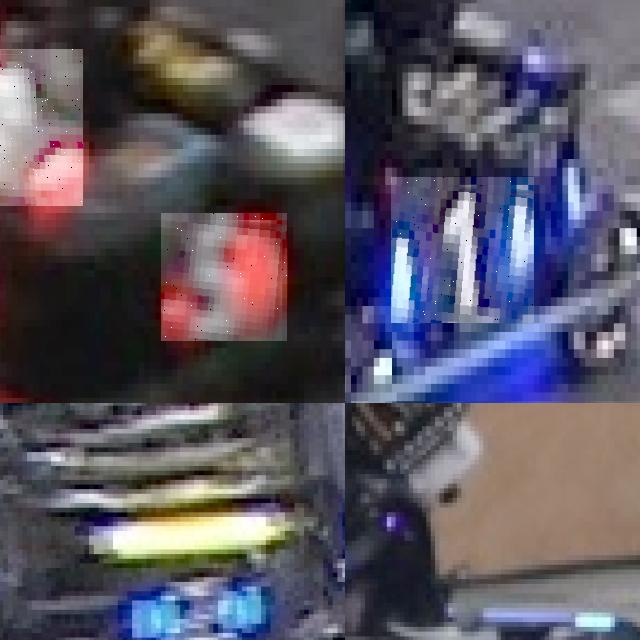B1: (391, 177, 534, 323)
R5: (161, 213, 287, 341), (0, 49, 83, 205)
